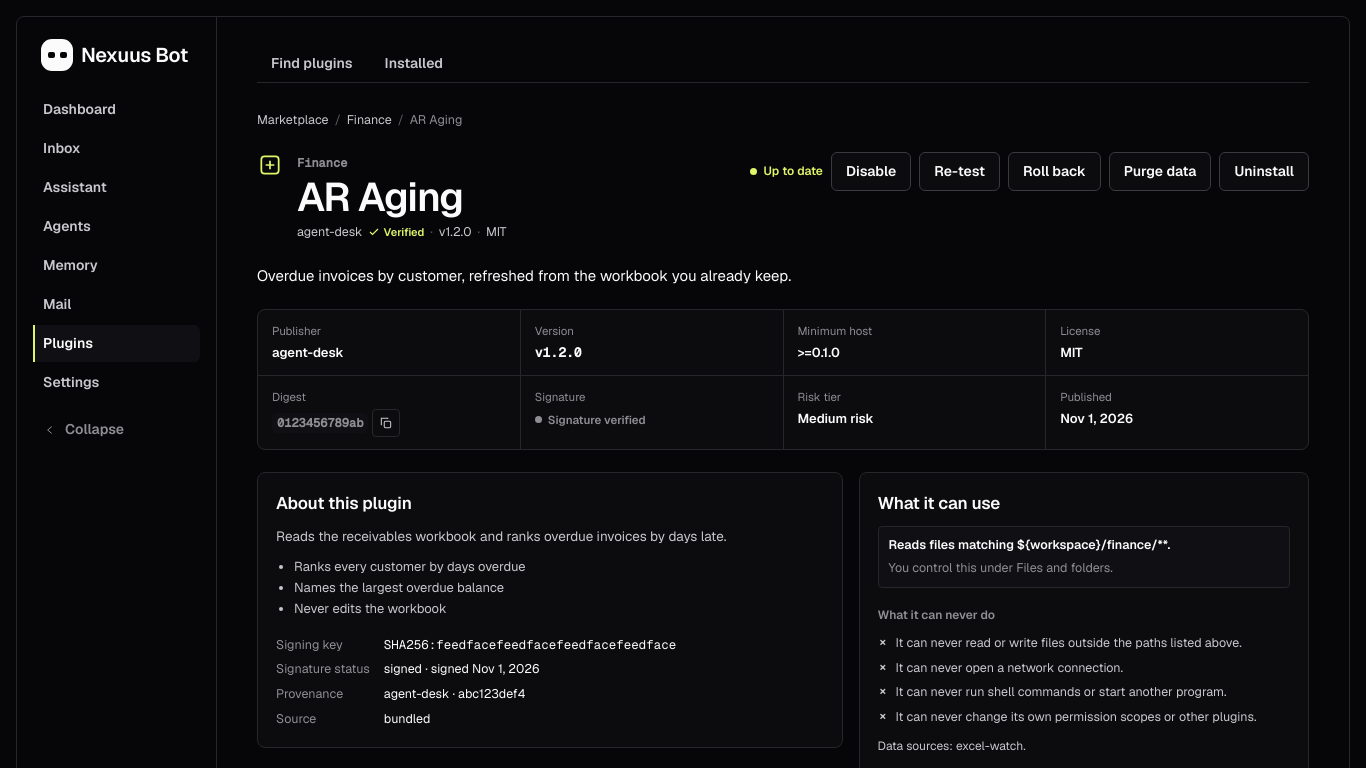
Test: the review defects › M4: keeps the detail confirm open with a failure, then closes on success
The image size is (1366, 768).
Expected: the heading "AR Aging" is shown, [297,171,463,223]
Click the button "Roll back".
click(1054, 171)  # box [1008,152,1101,191]
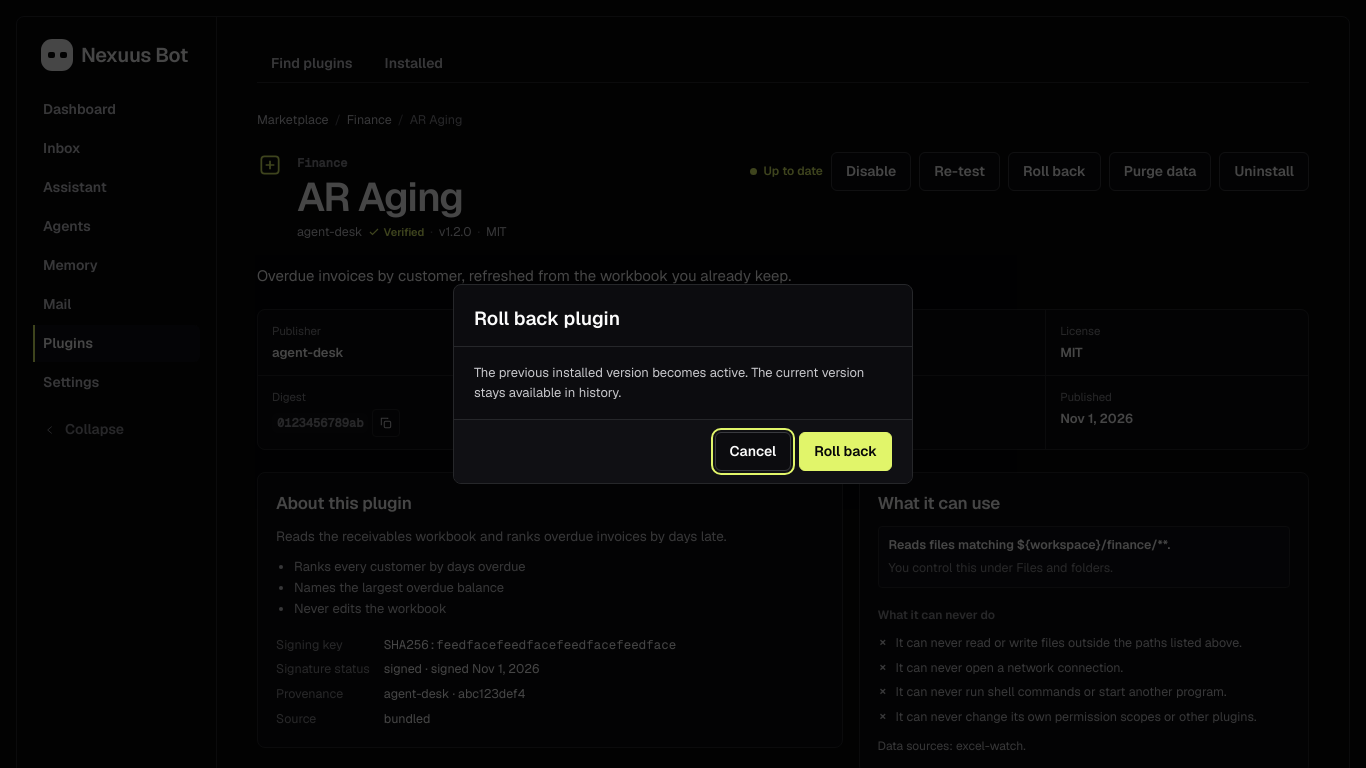
Click the button "Roll back".
click(846, 451)  # box [799,432,892,471]
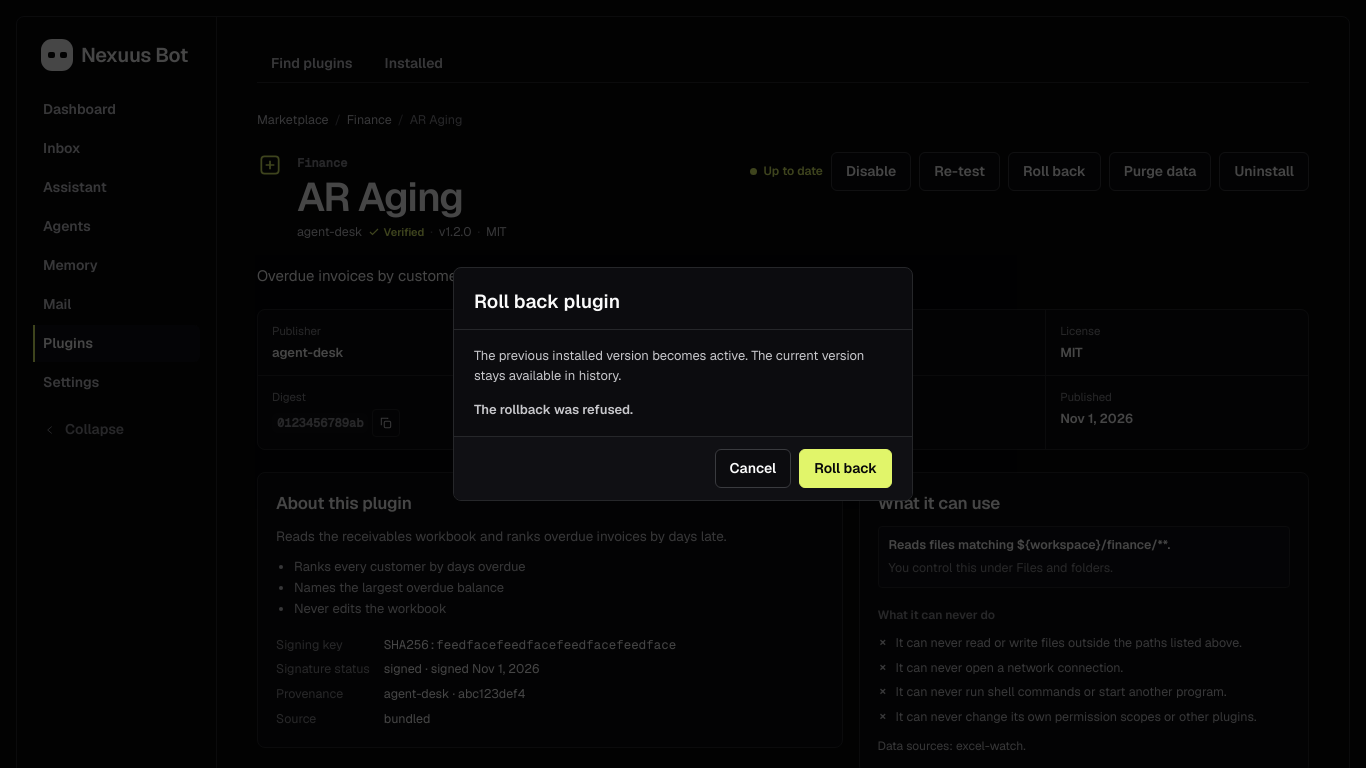
Expected: the dialog "Roll back plugin" is shown, [453,267,913,501]
Expected: the message reads "The rollback was refused.", [474,401,633,418]
Click the button "Roll back".
click(846, 468)  # box [799,449,892,488]
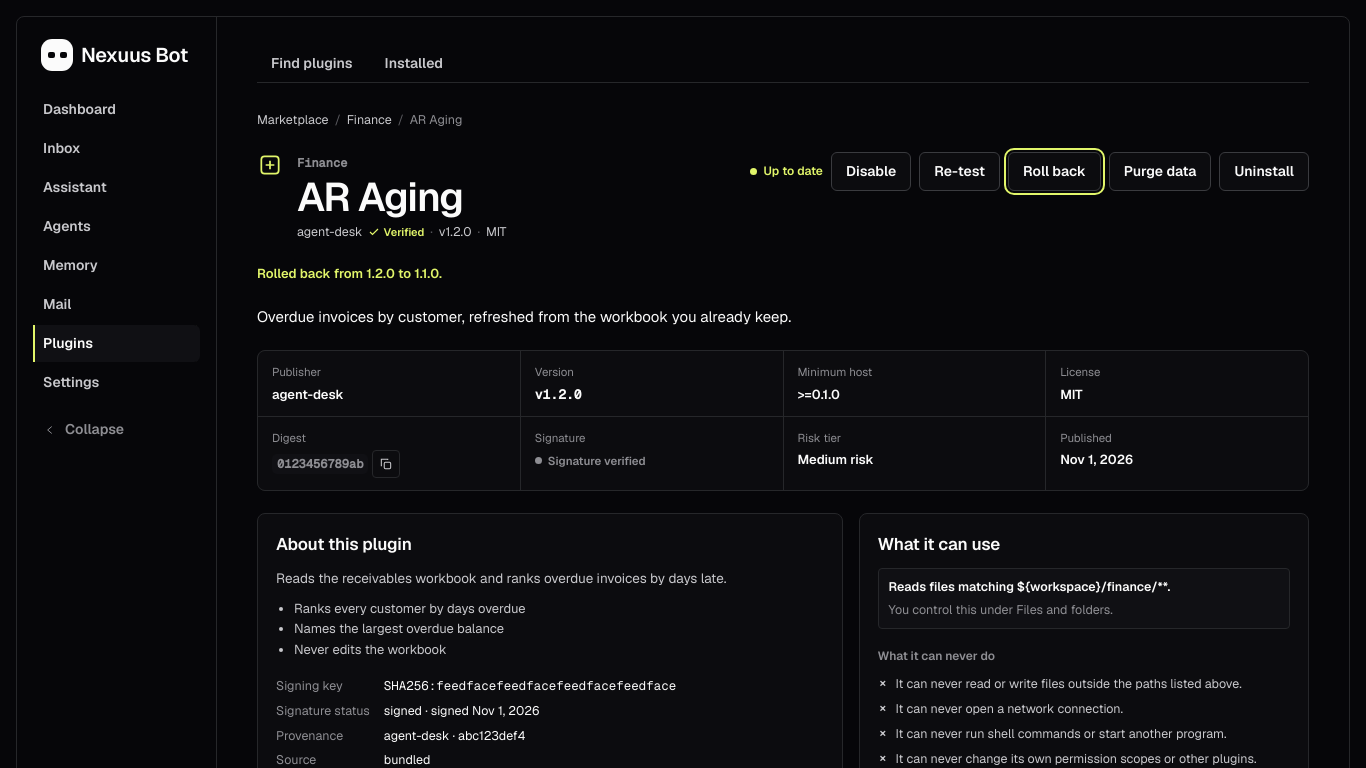
Expected: the text "Rolled back from 1.2.0 to 1.1.0." is shown, [257,264,442,282]
Expected: the dialog is gone
